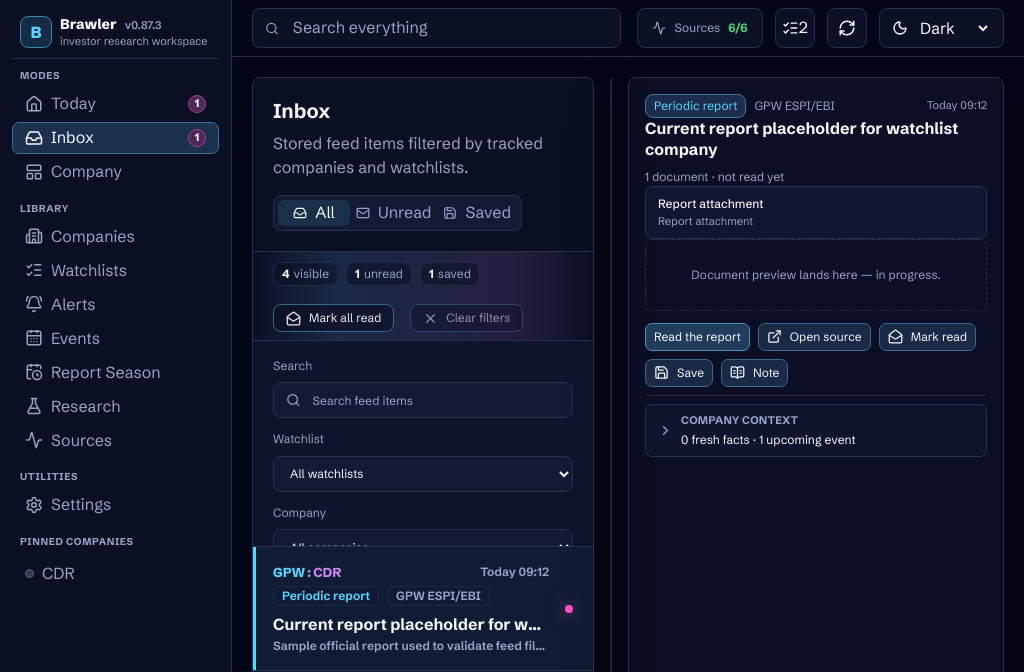
Test case: Global search › has no aria-activedescendant while a request is in flight (stale-id guard)
Type "alpha" into the dropdown named "Global search" at [449, 28], box [291,15,608,41]
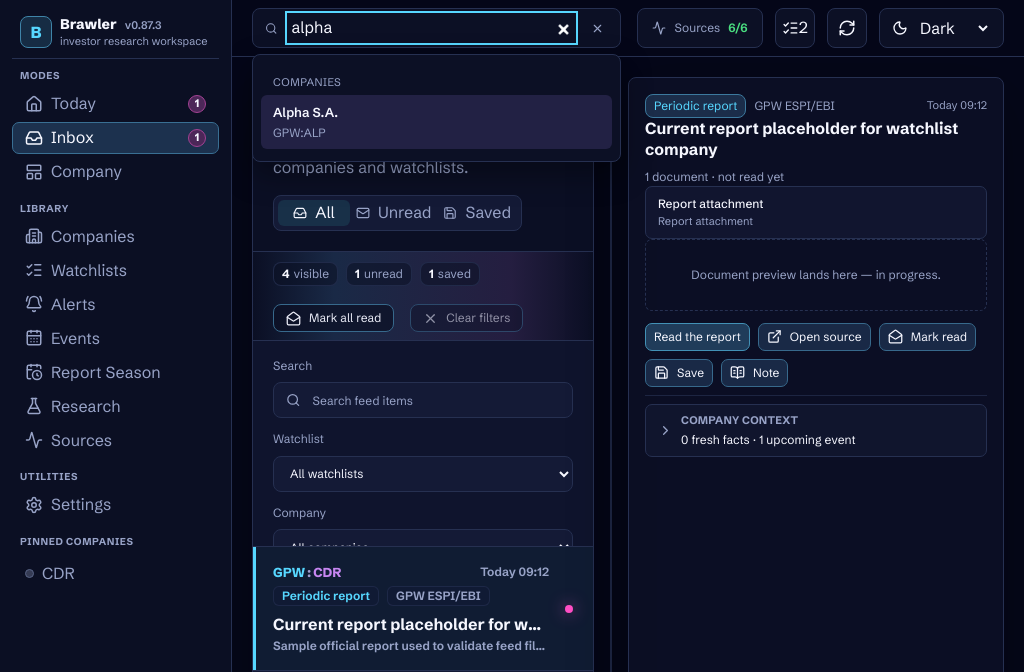
Type "x" into the dropdown named "Global search" at [432, 28], box [289,15,574,41]
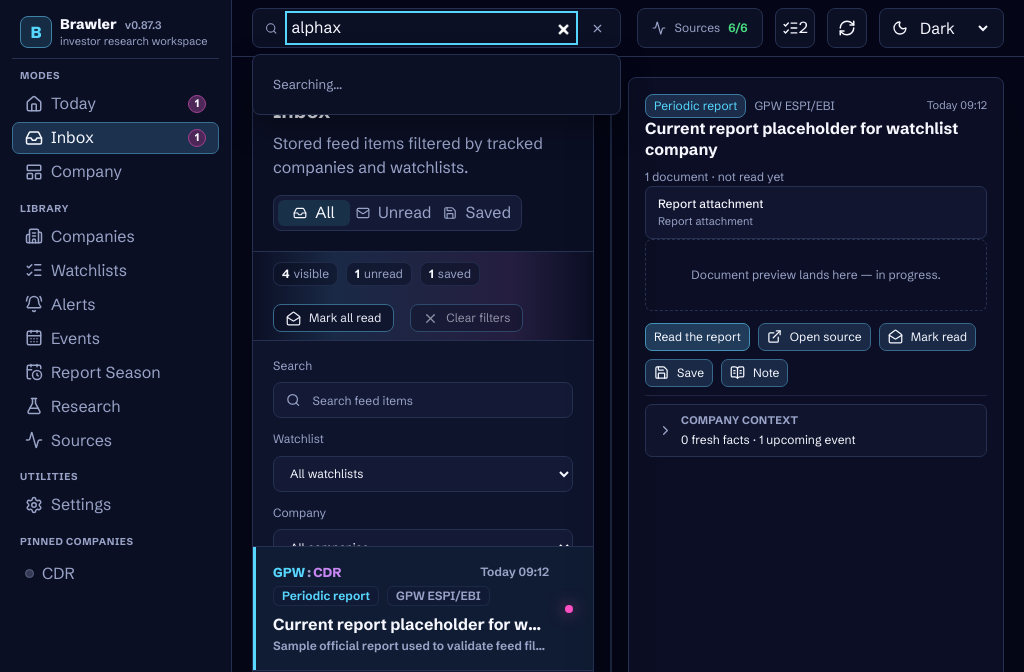
Now no options are shown
